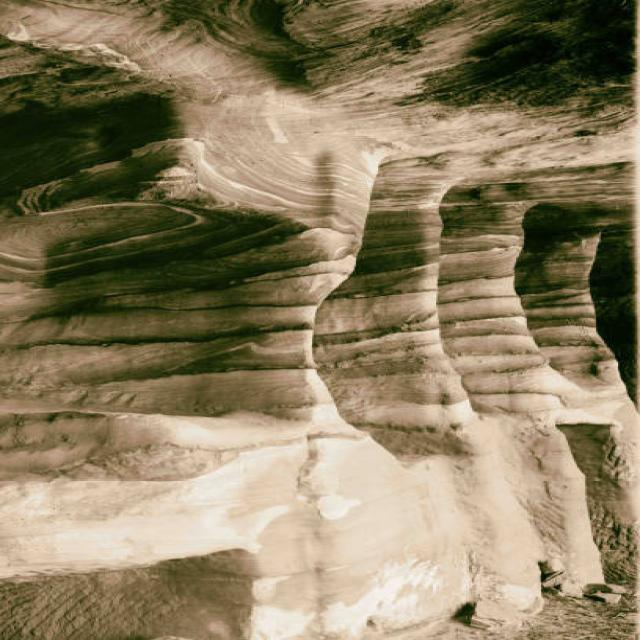Sedimentary: (1, 3, 638, 640)
